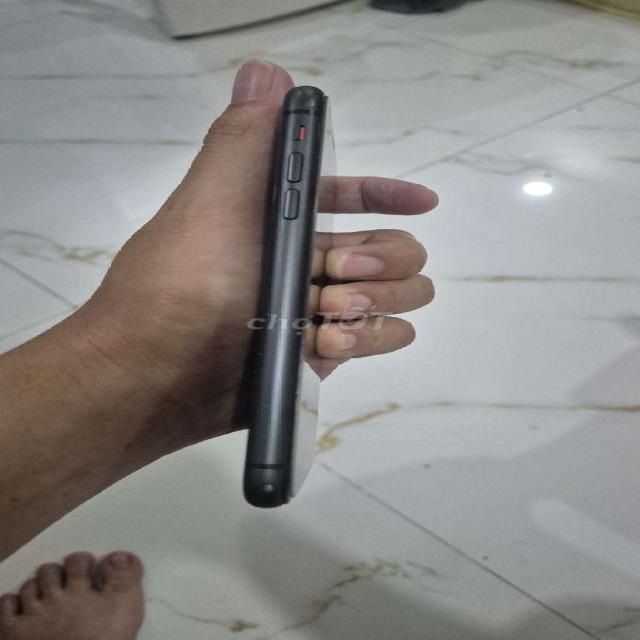gen_11: (196, 81, 375, 524)
